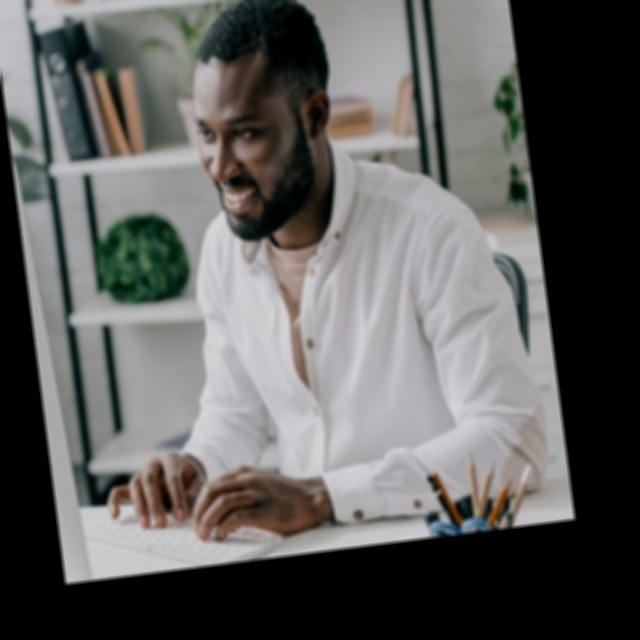Sin_Casco_Mascarrilla: (177, 0, 351, 248)
